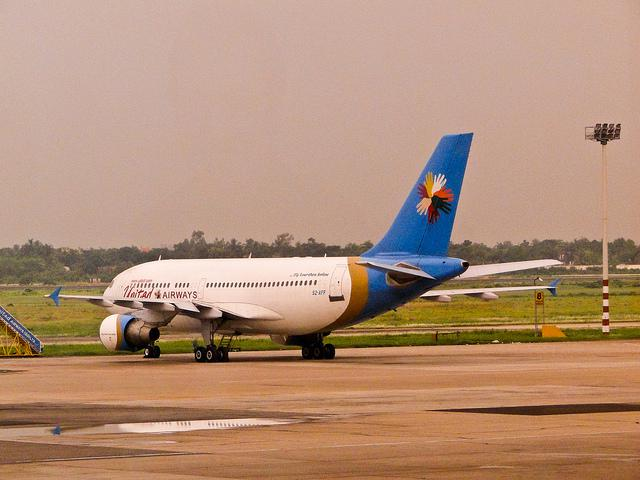Airplane: (47, 134, 474, 363)
